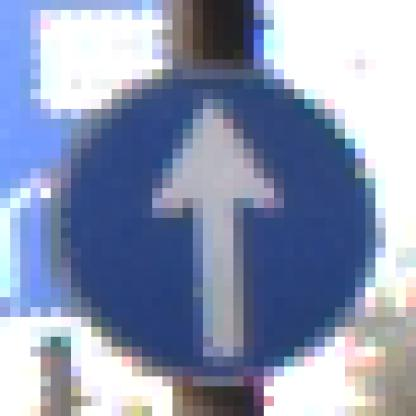AheadOnly: (52, 61, 366, 368)
